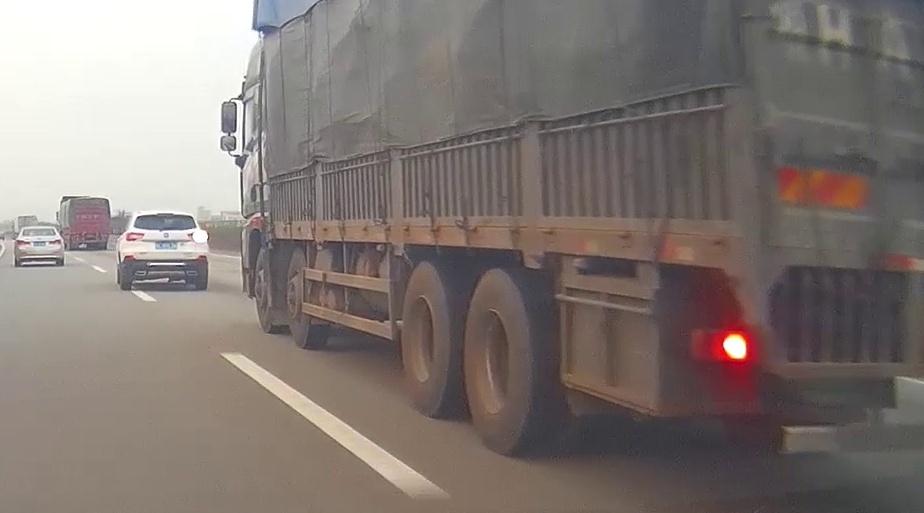L_light: (125, 232, 145, 241), (17, 240, 30, 245)
R_light: (187, 230, 208, 242), (49, 239, 61, 244)
T_light: (158, 213, 173, 216), (36, 228, 43, 230)
day-no: (15, 225, 64, 266)
day-right: (121, 210, 209, 290)
